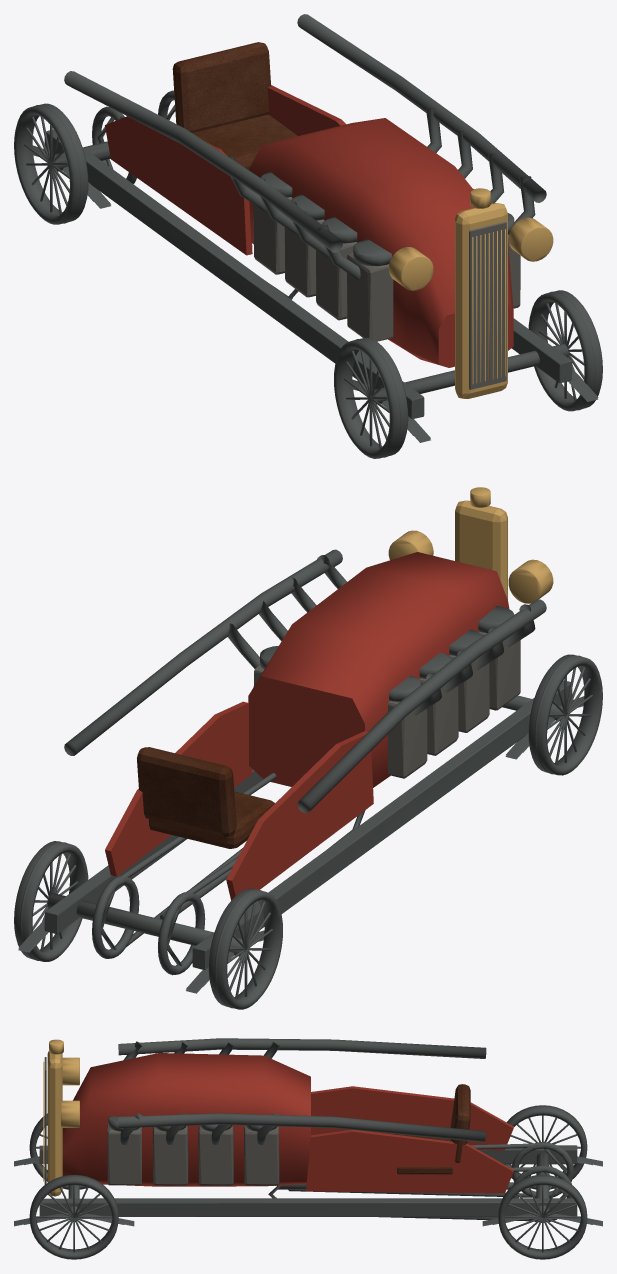
Rendered from Fiat_S76_1910_LOD1.fbx.
The picture shows the model from 3 angles, top to bottom: view 1: azimuth 30°, elevation 25°; view 2: azimuth 150°, elevation 25°; view 3: azimuth 270°, elevation 25°; orthographic projection. The views are drawn at different scales.
Parts seen in each view (by area): view 1: Fiat_S76_1910_Body_Root_OPT_Merged_FIAT_Paint_RecordRed_OPT_, Fiat_S76_1910_Chassis_Root_OPT_Merged_RB_Steel_Blackened_OPT, Fiat_S76_1910_Body_Root_OPT_Merged_RB_Steel_Blackened_OPT_DA, Fiat_S76_1910_Body_Root_OPT_Merged_RB_Iron_Rough_OPT_DATA_LO, Fiat_S76_1910_Body_Root_OPT_Merged_RB_Brass_Aged_OPT_DATA_LO, Fiat_S76_1910_Body_Root_OPT_Merged_RB_Leather_Saddle_OPT_DAT, Fiat_S76_1910_Wheel_FL_Spin_OPT_Merged_RB_Steel_Blackened_OP, Fiat_S76_1910_Wheel_RL_Spin_OPT_Merged_RB_Steel_Blackened_OP, Fiat_S76_1910_Wheel_FR_Spin_OPT_Merged_RB_Steel_Blackened_OP; view 2: Fiat_S76_1910_Body_Root_OPT_Merged_FIAT_Paint_RecordRed_OPT_, Fiat_S76_1910_Chassis_Root_OPT_Merged_RB_Steel_Blackened_OPT, Fiat_S76_1910_Body_Root_OPT_Merged_RB_Steel_Blackened_OPT_DA, Fiat_S76_1910_Body_Root_OPT_Merged_RB_Leather_Saddle_OPT_DAT, Fiat_S76_1910_Body_Root_OPT_Merged_RB_Iron_Rough_OPT_DATA_LO, Fiat_S76_1910_Body_Root_OPT_Merged_RB_Brass_Aged_OPT_DATA_LO, Fiat_S76_1910_Wheel_RL_Spin_OPT_Merged_RB_Steel_Blackened_OP, Fiat_S76_1910_Wheel_FL_Spin_OPT_Merged_RB_Steel_Blackened_OP, Fiat_S76_1910_Wheel_RR_Spin_OPT_Merged_RB_Steel_Blackened_OP; view 3: Fiat_S76_1910_Body_Root_OPT_Merged_FIAT_Paint_RecordRed_OPT_, Fiat_S76_1910_Chassis_Root_OPT_Merged_RB_Steel_Blackened_OPT, Fiat_S76_1910_Body_Root_OPT_Merged_RB_Steel_Blackened_OPT_DA, Fiat_S76_1910_Body_Root_OPT_Merged_RB_Iron_Rough_OPT_DATA_LO, Fiat_S76_1910_Wheel_FR_Spin_OPT_Merged_RB_Steel_Blackened_OP, Fiat_S76_1910_Wheel_RR_Spin_OPT_Merged_RB_Steel_Blackened_OP, Fiat_S76_1910_Body_Root_OPT_Merged_RB_Brass_Aged_OPT_DATA_LO, Fiat_S76_1910_Wheel_RL_Spin_OPT_Merged_RB_Steel_Blackened_OP, Fiat_S76_1910_Body_Root_OPT_Merged_RB_Leather_Saddle_OPT_DAT, Fiat_S76_1910_Wheel_FL_Spin_OPT_Merged_RB_Steel_Blackened_OP.
Boxes of the visible parts, x1=… form: Fiat_S76_1910_Body_Root_OPT_Merged_FIAT_Paint_RecordRed_OPT_: x1=105, y1=85, x2=513, y2=367; Fiat_S76_1910_Chassis_Root_OPT_Merged_RB_Steel_Blackened_OPT: x1=32, y1=90, x2=598, y2=442; Fiat_S76_1910_Body_Root_OPT_Merged_RB_Steel_Blackened_OPT_DA: x1=64, y1=14, x2=546, y2=279; Fiat_S76_1910_Body_Root_OPT_Merged_RB_Iron_Rough_OPT_DATA_LO: x1=253, y1=197, x2=520, y2=389; Fiat_S76_1910_Body_Root_OPT_Merged_RB_Brass_Aged_OPT_DATA_LO: x1=388, y1=188, x2=553, y2=398; Fiat_S76_1910_Body_Root_OPT_Merged_RB_Leather_Saddle_OPT_DAT: x1=172, y1=42, x2=297, y2=169; Fiat_S76_1910_Wheel_FL_Spin_OPT_Merged_RB_Steel_Blackened_OP: x1=334, y1=338, x2=408, y2=458; Fiat_S76_1910_Wheel_RL_Spin_OPT_Merged_RB_Steel_Blackened_OP: x1=14, y1=103, x2=88, y2=224; Fiat_S76_1910_Wheel_FR_Spin_OPT_Merged_RB_Steel_Blackened_OP: x1=528, y1=290, x2=602, y2=411; Fiat_S76_1910_Body_Root_OPT_Merged_FIAT_Paint_RecordRed_OPT_: x1=105, y1=552, x2=509, y2=900; Fiat_S76_1910_Chassis_Root_OPT_Merged_RB_Steel_Blackened_OPT: x1=18, y1=680, x2=584, y2=993; Fiat_S76_1910_Body_Root_OPT_Merged_RB_Steel_Blackened_OPT_DA: x1=64, y1=549, x2=546, y2=812; Fiat_S76_1910_Body_Root_OPT_Merged_RB_Leather_Saddle_OPT_DAT: x1=137, y1=747, x2=274, y2=848; Fiat_S76_1910_Body_Root_OPT_Merged_RB_Iron_Rough_OPT_DATA_LO: x1=253, y1=631, x2=520, y2=778; Fiat_S76_1910_Body_Root_OPT_Merged_RB_Brass_Aged_OPT_DATA_LO: x1=388, y1=487, x2=553, y2=603; Fiat_S76_1910_Wheel_RL_Spin_OPT_Merged_RB_Steel_Blackened_OP: x1=208, y1=888, x2=282, y2=1009; Fiat_S76_1910_Wheel_FL_Spin_OPT_Merged_RB_Steel_Blackened_OP: x1=528, y1=654, x2=602, y2=775; Fiat_S76_1910_Wheel_RR_Spin_OPT_Merged_RB_Steel_Blackened_OP: x1=14, y1=841, x2=88, y2=961; Fiat_S76_1910_Body_Root_OPT_Merged_FIAT_Paint_RecordRed_OPT_: x1=62, y1=1053, x2=513, y2=1193; Fiat_S76_1910_Chassis_Root_OPT_Merged_RB_Steel_Blackened_OPT: x1=14, y1=1142, x2=602, y2=1226; Fiat_S76_1910_Body_Root_OPT_Merged_RB_Steel_Blackened_OPT_DA: x1=108, y1=1038, x2=486, y2=1144; Fiat_S76_1910_Body_Root_OPT_Merged_RB_Iron_Rough_OPT_DATA_LO: x1=44, y1=1057, x2=279, y2=1185; Fiat_S76_1910_Wheel_FR_Spin_OPT_Merged_RB_Steel_Blackened_OP: x1=29, y1=1175, x2=118, y2=1259; Fiat_S76_1910_Wheel_RR_Spin_OPT_Merged_RB_Steel_Blackened_OP: x1=498, y1=1175, x2=587, y2=1259; Fiat_S76_1910_Body_Root_OPT_Merged_RB_Brass_Aged_OPT_DATA_LO: x1=43, y1=1039, x2=79, y2=1196; Fiat_S76_1910_Wheel_RL_Spin_OPT_Merged_RB_Steel_Blackened_OP: x1=504, y1=1105, x2=587, y2=1189; Fiat_S76_1910_Body_Root_OPT_Merged_RB_Leather_Saddle_OPT_DAT: x1=394, y1=1084, x2=470, y2=1174; Fiat_S76_1910_Wheel_FL_Spin_OPT_Merged_RB_Steel_Blackened_OP: x1=29, y1=1113, x2=86, y2=1189.
Size of what is drawn, in the model's own units: 165 by 157 by 465.
Materials: 5 (1 with a texture image).
